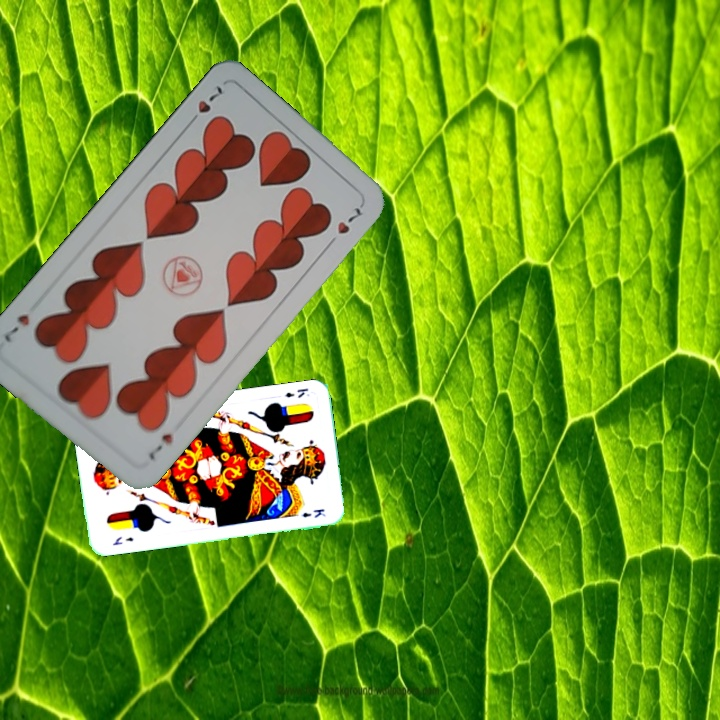EK: (281, 384, 311, 400), (108, 533, 136, 548)
H7: (183, 81, 226, 129), (144, 429, 176, 463)
